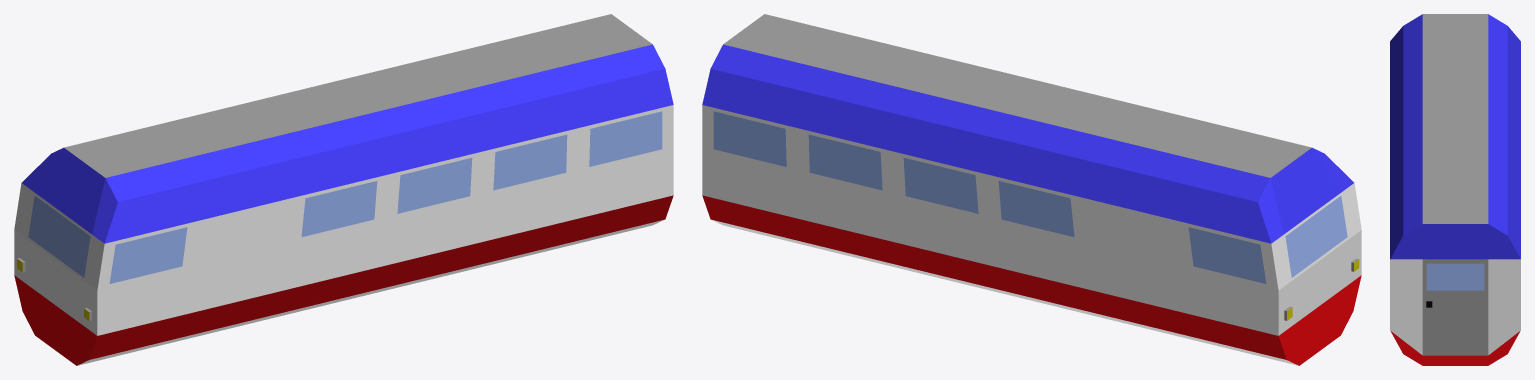
File: Train.fbx
3 views of the same model, side by side, from view 1: azimuth 30°, elevation 25°; view 2: azimuth 150°, elevation 25°; view 3: azimuth 270°, elevation 25° (orthographic). The views are drawn at different scales.
Visible parts, largest first — view 1: Train; view 2: Train; view 3: Train.
Boxes of the visible parts, x1=… form: Train: x1=14, y1=14, x2=673, y2=365; Train: x1=702, y1=14, x2=1361, y2=365; Train: x1=1390, y1=14, x2=1520, y2=365.
Size of the model in its own units: 402 by 120 by 100.
